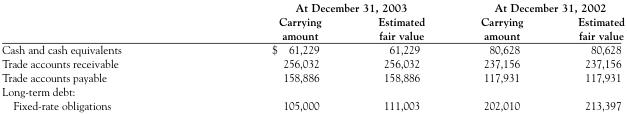table: (1, 0, 623, 111)
table column: (1, 0, 196, 111), (196, 0, 348, 111), (348, 0, 452, 111), (452, 0, 549, 111), (549, 0, 623, 111)
table column header: (1, 0, 623, 41)
table projected row header: (1, 83, 623, 97)
table row: (1, 14, 623, 41), (1, 0, 623, 14), (1, 41, 623, 55), (1, 55, 623, 69), (1, 69, 623, 83), (1, 83, 623, 97), (1, 97, 623, 111)
table spanning cell: (196, 0, 452, 14), (452, 0, 623, 14)
